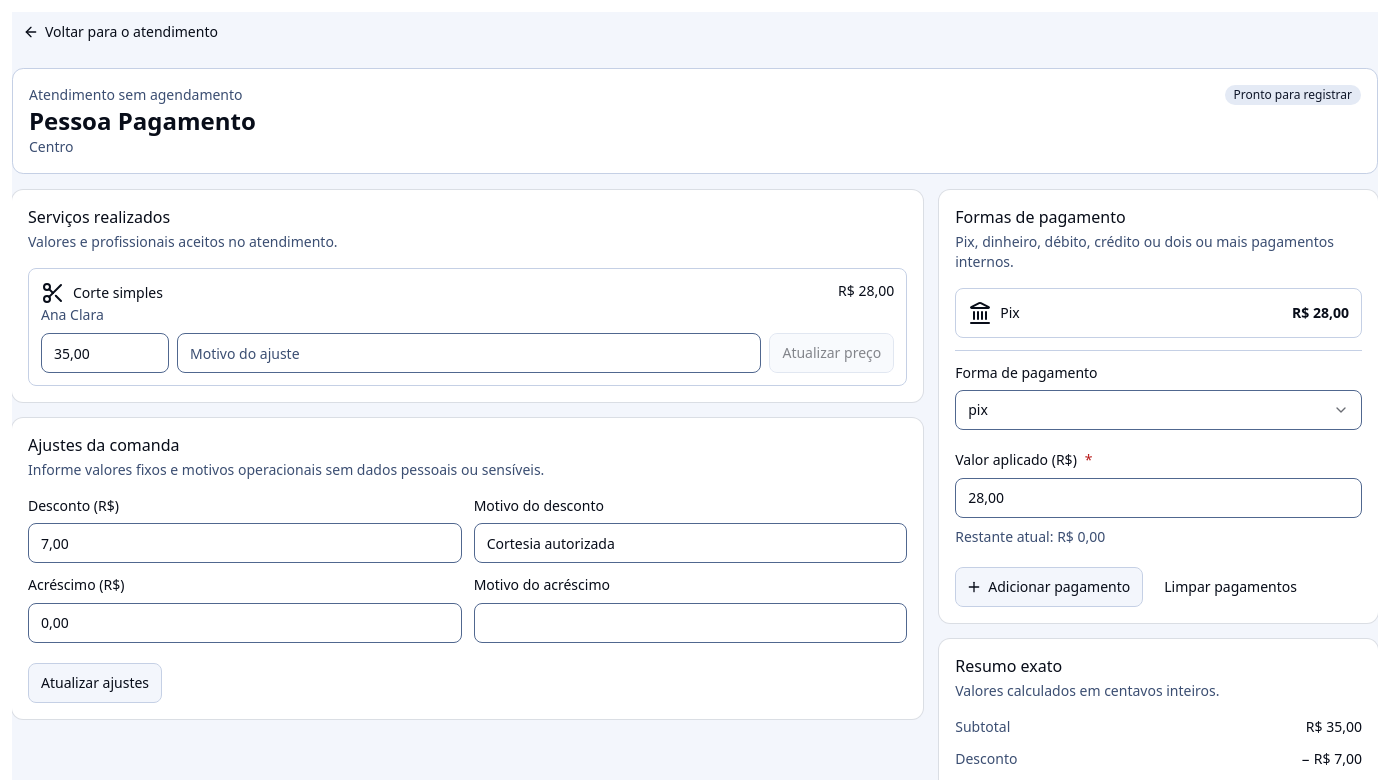
Scenario: checkout page › validates adjustment reasons and focuses the first invalid field
Expected: the heading "Ajustes da comanda" is shown, x1=28 y1=434 x2=180 y2=456
Clear the field labelled "Motivo do desconto" at {"x": 690, "y": 543}, box x1=474 y1=523 x2=907 y2=563
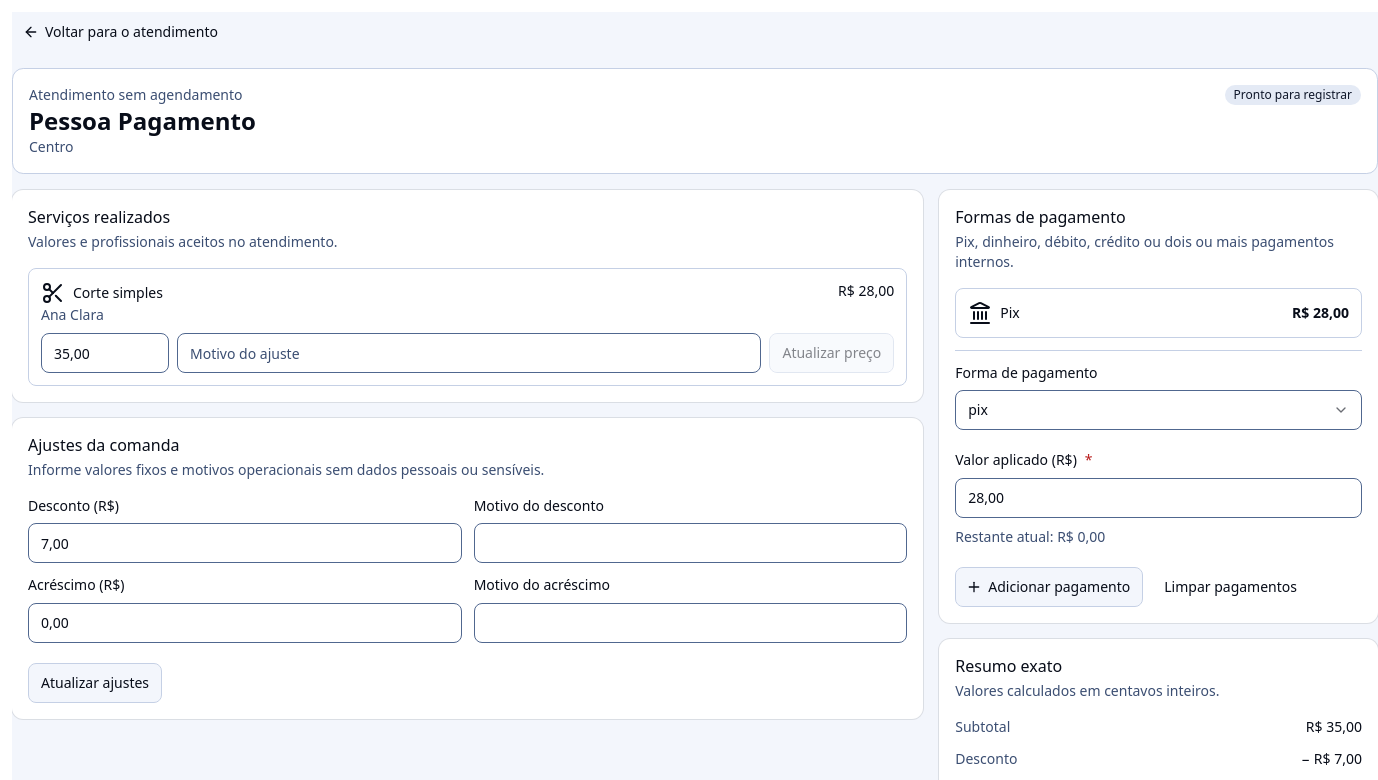
Click the button "Atualizar ajustes" at {"x": 95, "y": 682}, box x1=28 y1=662 x2=162 y2=702
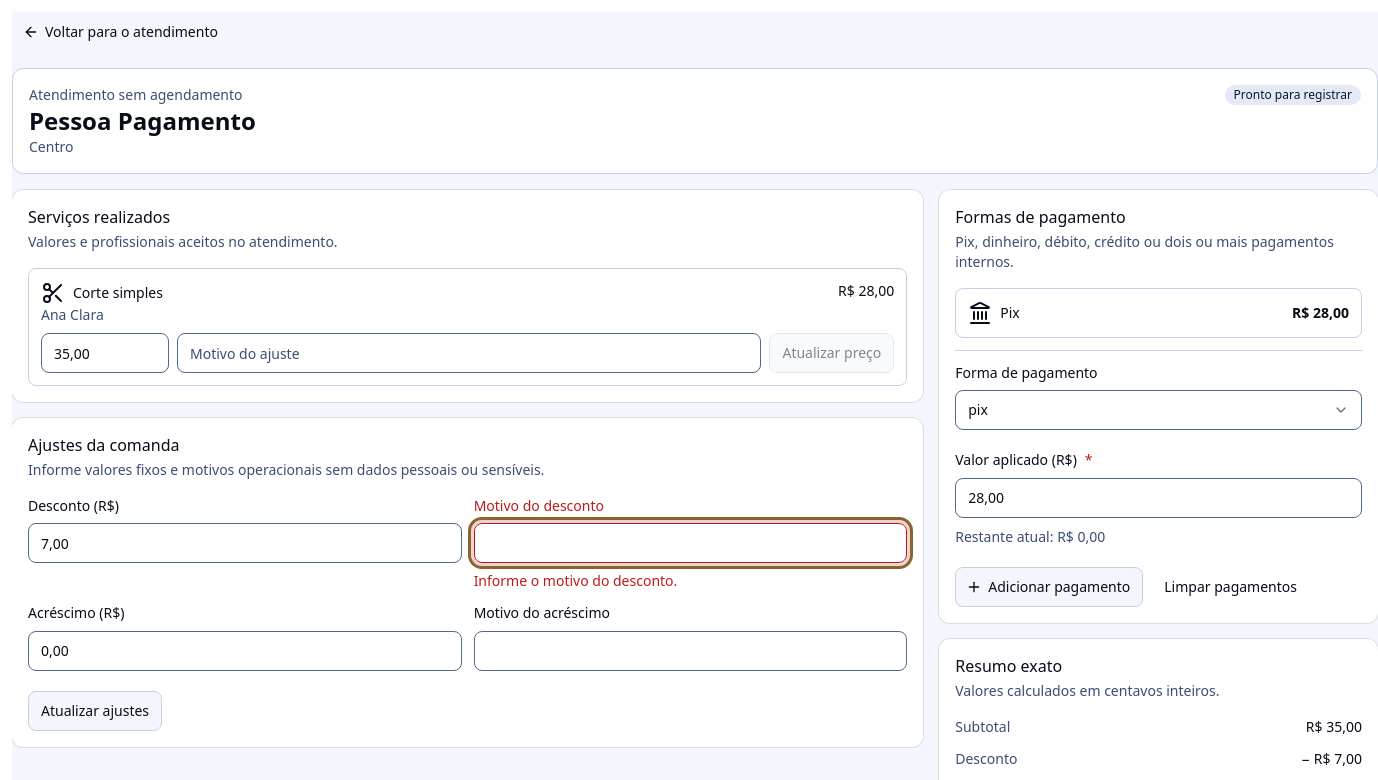
Expected: the text "Informe o motivo do desconto." is shown, x1=474 y1=571 x2=677 y2=590
